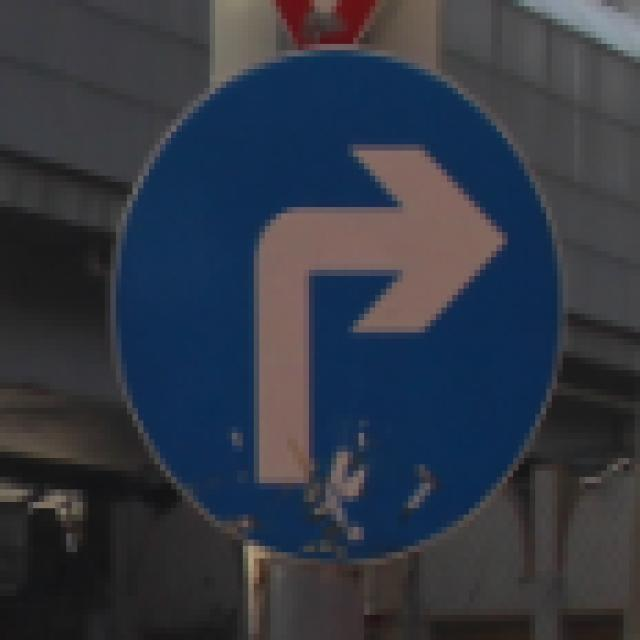right: (110, 51, 554, 546)
